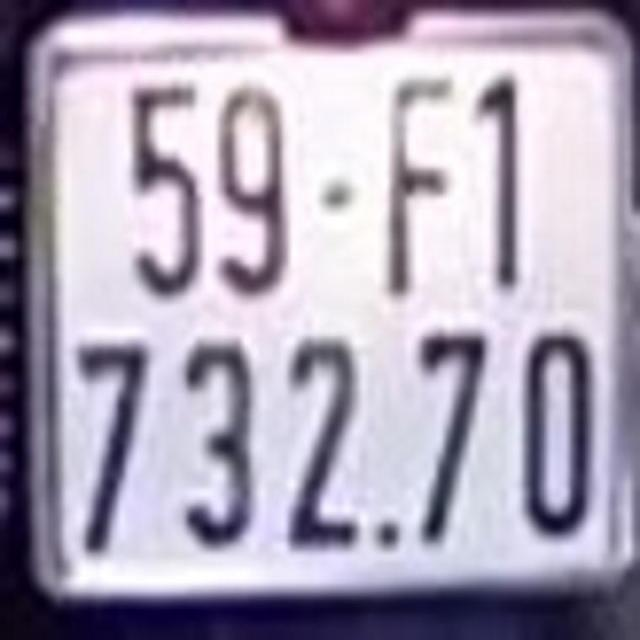0: (522, 329, 593, 529)
1: (476, 67, 520, 290)
2: (284, 330, 359, 548)
3: (188, 336, 262, 548)
5: (128, 78, 208, 288)
7: (74, 337, 151, 552), (418, 330, 488, 552)
9: (218, 80, 290, 296)
F: (389, 72, 459, 304)
